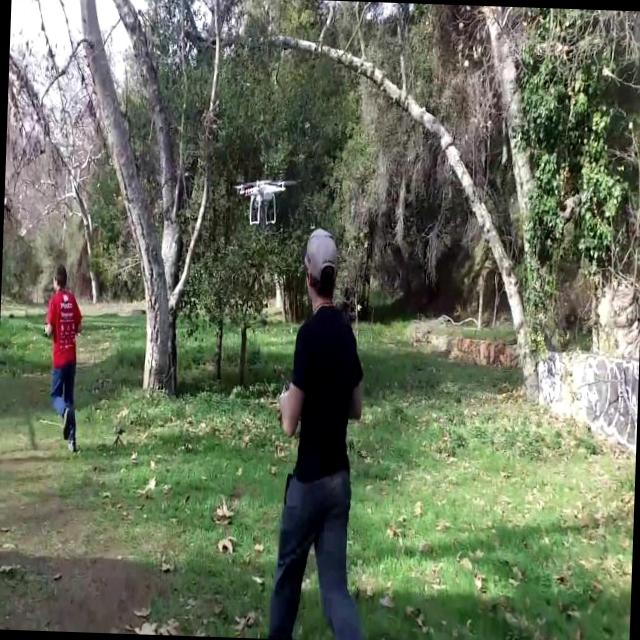drone: (233, 172, 294, 226)
